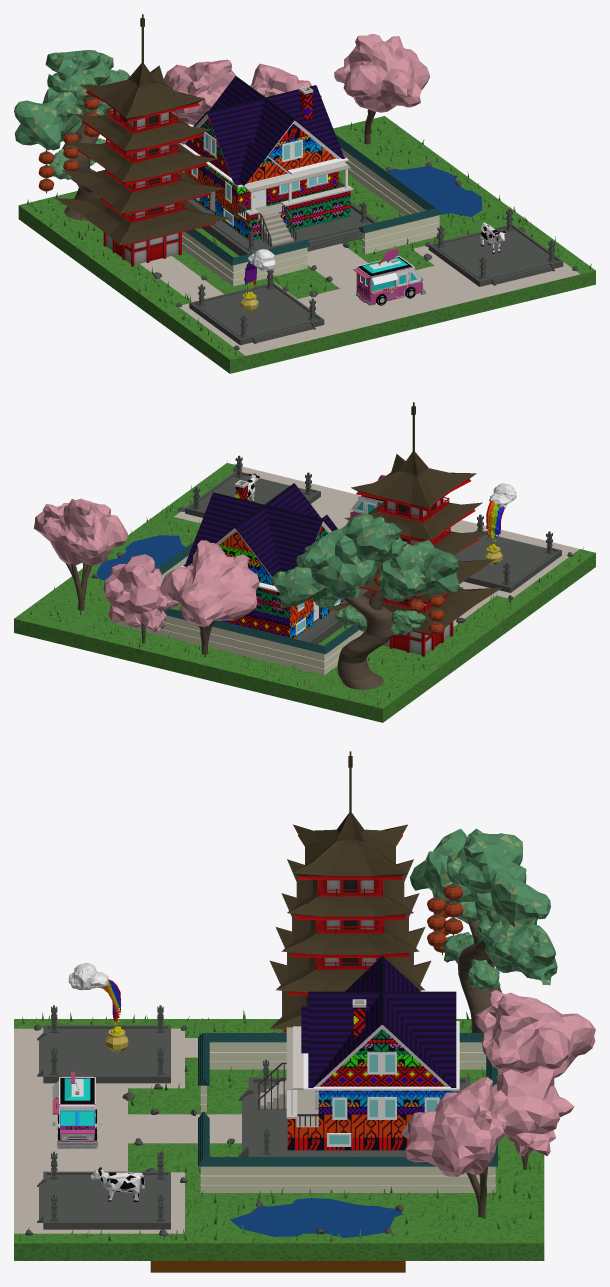
3 views of the same model, one above another, from view 1: azimuth 30°, elevation 25°; view 2: azimuth 150°, elevation 25°; view 3: azimuth 270°, elevation 25° (orthographic). The views are drawn at different scales.
Visible parts, largest first — view 1: Cube.005, Cube.966, VEHICLES_ICE_CREAM_TRUCK, OBJRANDOM_RAINBOW, ANIMAL_VACA; view 2: Cube.005, Cube.966, OBJRANDOM_RAINBOW, VEHICLES_ICE_CREAM_TRUCK; view 3: Cube.005, Cube.966, VEHICLES_ICE_CREAM_TRUCK, UNDERGROUND_ART_PIECE_VAN_GOGH, OBJRANDOM_RAINBOW, ANIMAL_VACA.
Boxes of the visible parts, x1=… form: Cube.005: x1=14, y1=14, x2=595, y2=373; Cube.966: x1=178, y1=76, x2=353, y2=247; VEHICLES_ICE_CREAM_TRUCK: x1=353, y1=248, x2=426, y2=305; OBJRANDOM_RAINBOW: x1=240, y1=249, x2=276, y2=311; ANIMAL_VACA: x1=480, y1=222, x2=505, y2=253; Cube.005: x1=14, y1=402, x2=595, y2=722; Cube.966: x1=181, y1=480, x2=345, y2=638; OBJRANDOM_RAINBOW: x1=484, y1=483, x2=516, y2=565; VEHICLES_ICE_CREAM_TRUCK: x1=347, y1=475, x2=385, y2=523; Cube.005: x1=14, y1=751, x2=595, y2=1260; Cube.966: x1=258, y1=956, x2=459, y2=1150; VEHICLES_ICE_CREAM_TRUCK: x1=52, y1=1071, x2=102, y2=1148; UNDERGROUND_ART_PIECE_VAN_GOGH: x1=150, y1=1261, x2=405, y2=1272; OBJRANDOM_RAINBOW: x1=68, y1=963, x2=128, y2=1051; ANIMAL_VACA: x1=90, y1=1167, x2=144, y2=1201.
Bounding box in the file's own units: 4528 × 2816 × 4389.
55 materials, 10 textured.
